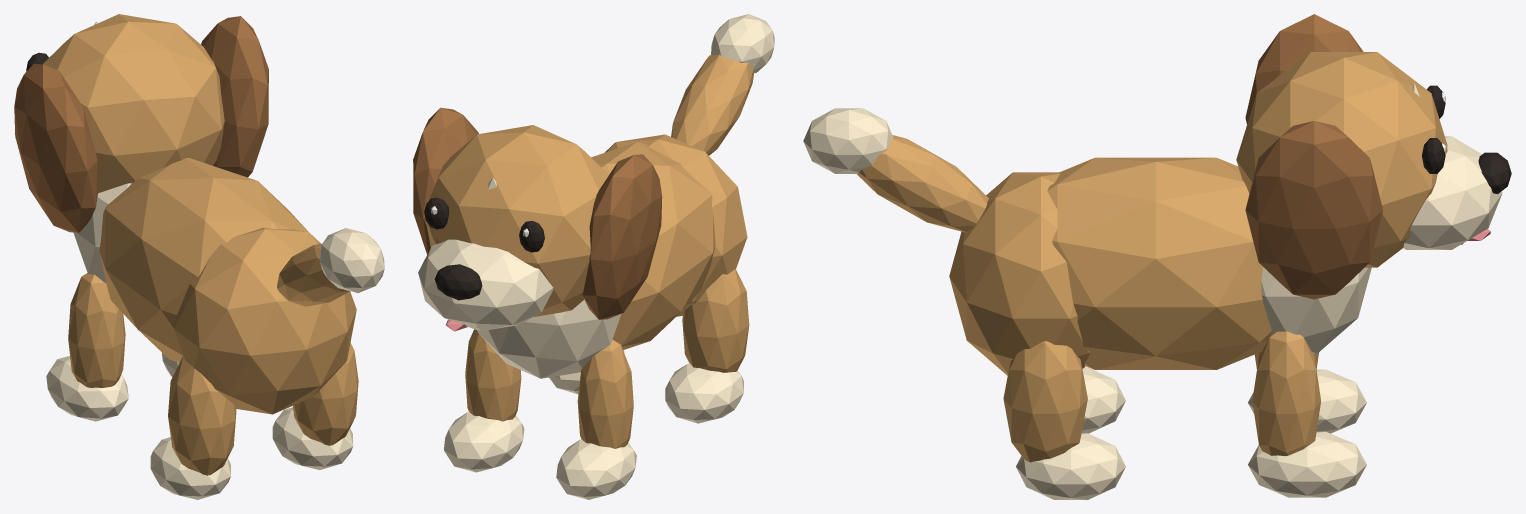
File: puppy.glb
3 views of the same model, side by side, from view 1: azimuth 30°, elevation 25°; view 2: azimuth 150°, elevation 25°; view 3: azimuth 270°, elevation 25° (orthographic). The views are drawn at different scales.
Parts seen in each view (by area): view 1: Haunch, Head, GoldenBody, FloppyEar_-1, FloppyEar_1, BackLeg_-1, FrontLeg_-1, BackLeg_1, TailCreamTip, FrontPaw_-1, BackPaw_1, BackPaw_-1 (+2 smaller); view 2: Head, GoldenBody, FloppyEar_-1, CreamMuzzle, CreamChest, BackLeg_-1, WaggingTail, Haunch, FrontLeg_-1, FloppyEar_1, FrontLeg_1, FrontPaw_-1 (+7 smaller); view 3: GoldenBody, Head, FloppyEar_1, Haunch, BackLeg_1, WaggingTail, FrontLeg_1, CreamMuzzle, FrontPaw_1, CreamChest, BackPaw_1, TailCreamTip (+4 smaller).
Boxes of the visible parts, left/top/right/bottom form: Haunch: left=174, top=227, right=356, bottom=414; Head: left=43, top=14, right=224, bottom=193; GoldenBody: left=99, top=158, right=308, bottom=362; FloppyEar_-1: left=14, top=63, right=98, bottom=232; FloppyEar_1: left=201, top=16, right=268, bottom=177; BackLeg_-1: left=168, top=355, right=236, bottom=475; FrontLeg_-1: left=68, top=273, right=125, bottom=387; BackLeg_1: left=293, top=343, right=358, bottom=445; TailCreamTip: left=319, top=228, right=384, bottom=292; FrontPaw_-1: left=46, top=356, right=128, bottom=421; BackPaw_1: left=272, top=407, right=353, bottom=469; BackPaw_-1: left=150, top=437, right=230, bottom=499; Head: left=426, top=125, right=608, bottom=316; GoldenBody: left=591, top=142, right=715, bottom=349; FloppyEar_-1: left=582, top=154, right=662, bottom=319; CreamMuzzle: left=418, top=239, right=553, bottom=331; CreamChest: left=477, top=299, right=621, bottom=378; BackLeg_-1: left=682, top=269, right=749, bottom=372; WaggingTail: left=671, top=54, right=754, bottom=155; Haunch: left=604, top=134, right=747, bottom=316; FrontLeg_-1: left=577, top=339, right=633, bottom=448; FloppyEar_1: left=413, top=107, right=478, bottom=254; FrontLeg_1: left=465, top=329, right=521, bottom=421; FrontPaw_-1: left=556, top=439, right=636, bottom=499; GoldenBody: left=1047, top=157, right=1271, bottom=369; Head: left=1236, top=52, right=1447, bottom=267; FloppyEar_1: left=1245, top=121, right=1382, bottom=299; Haunch: left=949, top=172, right=1090, bottom=375; BackLeg_1: left=1003, top=341, right=1087, bottom=462; WaggingTail: left=857, top=135, right=988, bottom=232; FrontLeg_1: left=1252, top=331, right=1320, bottom=455; CreamMuzzle: left=1403, top=136, right=1502, bottom=249; FrontPaw_1: left=1248, top=431, right=1366, bottom=497; CreamChest: left=1261, top=267, right=1371, bottom=353; BackPaw_1: left=1016, top=433, right=1125, bottom=499; TailCreamTip: left=803, top=108, right=893, bottom=173.
Size of the model in its own units: 0.6451 by 0.975 by 1.54.
